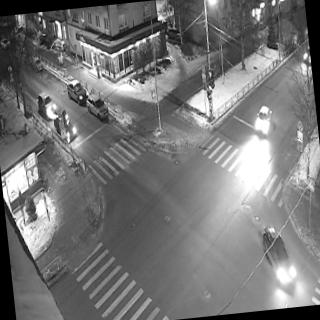small-vehicle: (260, 226, 295, 285), (46, 108, 76, 143), (255, 105, 272, 136), (66, 79, 87, 104), (36, 92, 56, 118), (86, 96, 107, 120)
